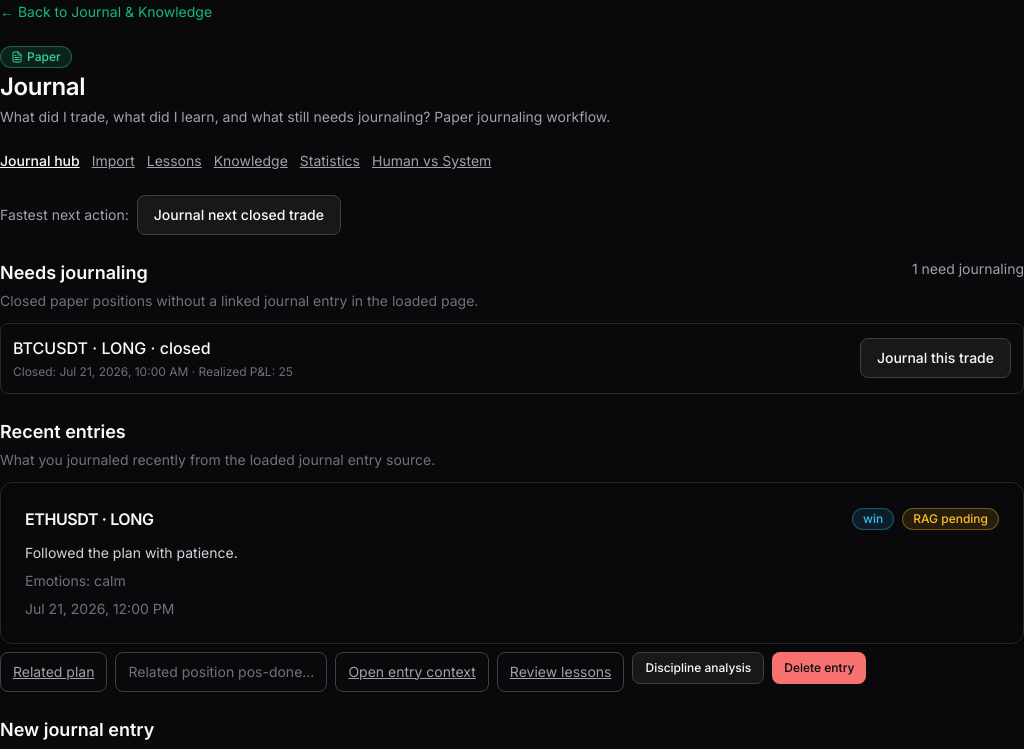
Journal hub Phase C3A › surfaces delete mutation failures as a visible alert
This screenshot has width=1024, height=749.
Click the button with test id "delete-entry-entry-1" at (819, 668), box [772,652,866,684]
(page scrolled)
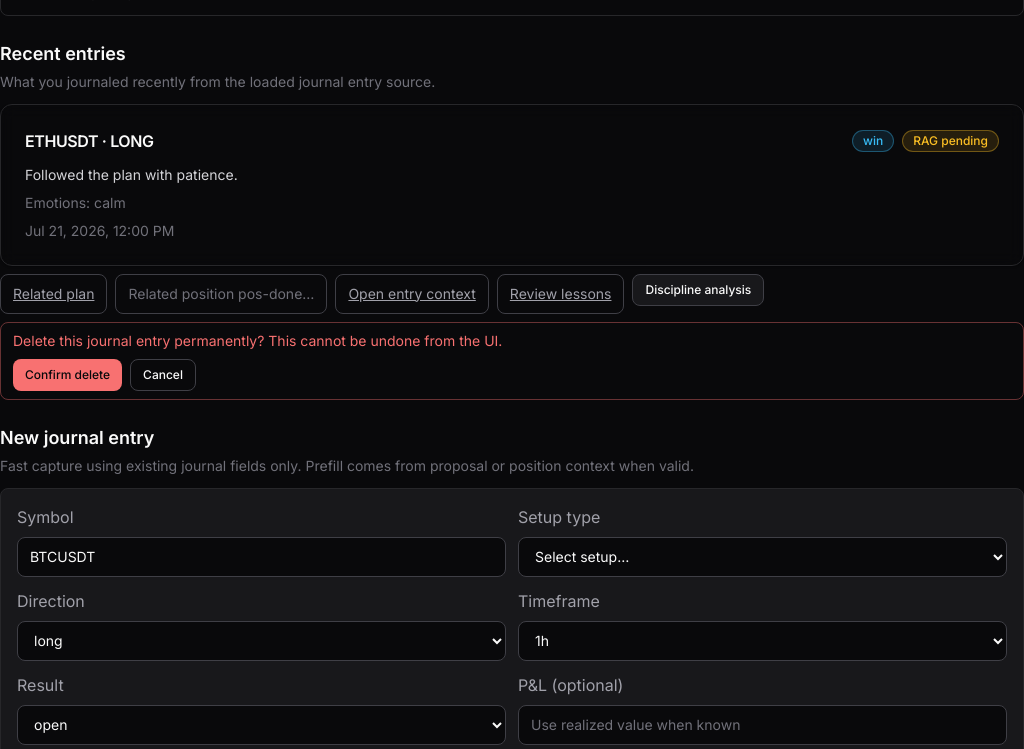
Click the button with test id "confirm-delete-entry-1" at (68, 375), box [13,359,122,391]
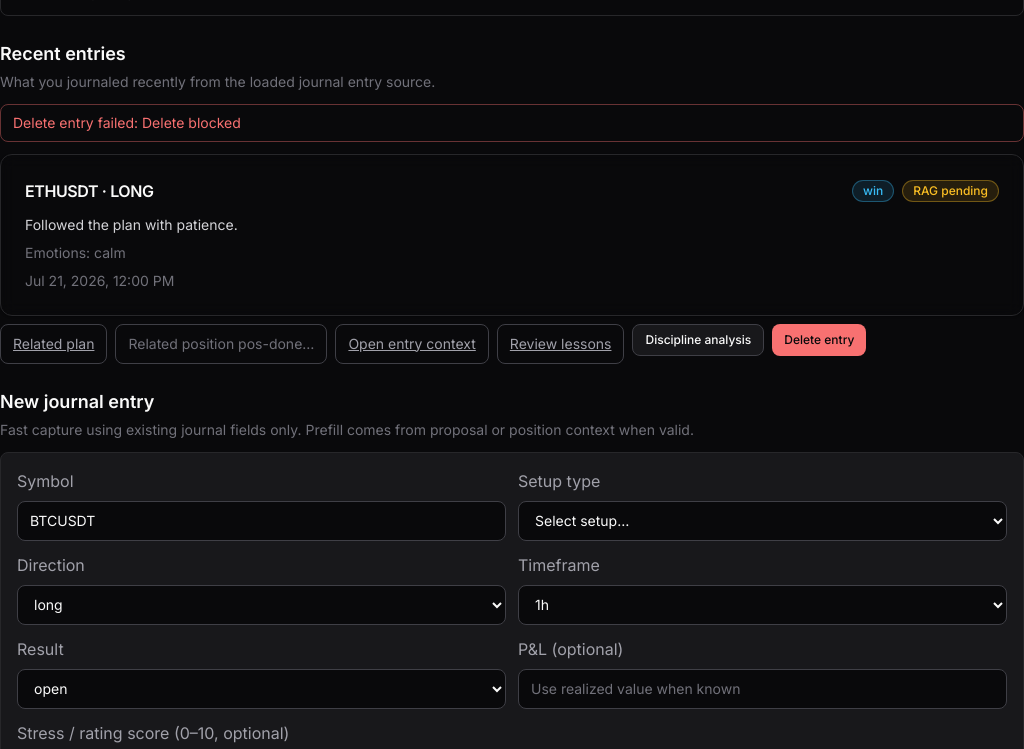
Expected: the list item with test id "recent-entry-entry-1" is shown, [0,154,1023,364]
Expected: the message with test id "journal-mutation-error" shows "Delete entry failed", [13,114,241,131]
